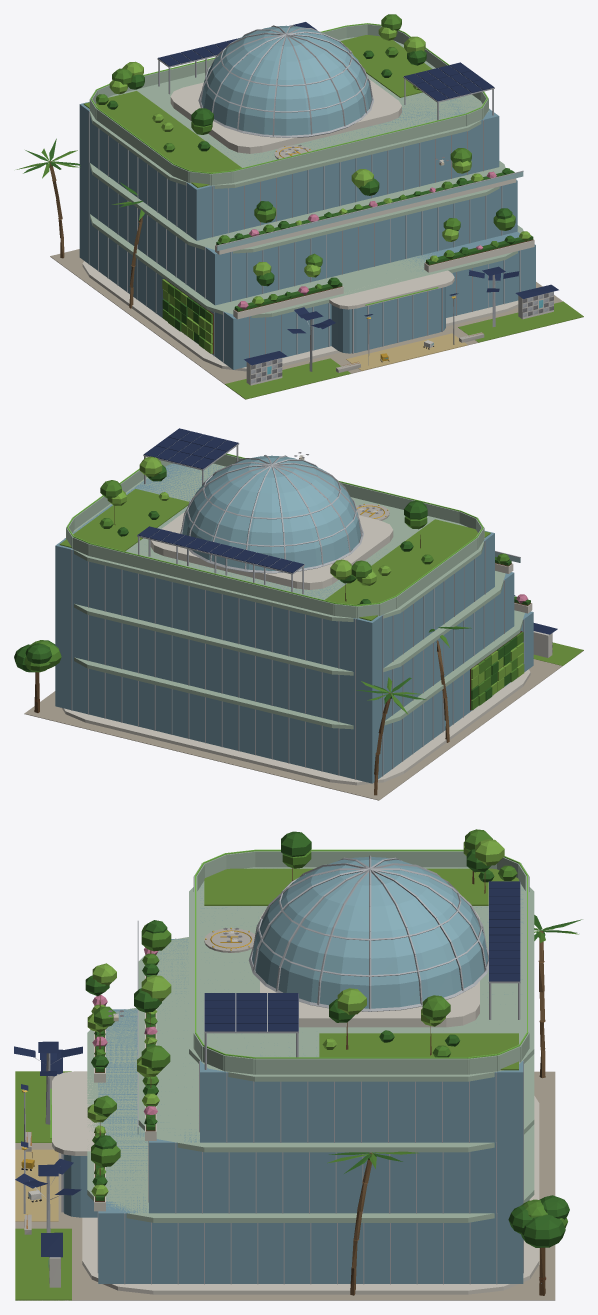
Rendered from shop_5.glb.
3 views of the same model, one above another, from view 1: azimuth 30°, elevation 25°; view 2: azimuth 150°, elevation 25°; view 3: azimuth 270°, elevation 25° (orthographic). The views are drawn at different scales.
Parts seen in each view (by area): view 1: body, windows; view 2: body, windows; view 3: body, windows.
Boxes of the visible parts, x1,y1,x2,y2 form: body: (16, 14, 583, 399); windows: (90, 23, 543, 374); body: (14, 428, 583, 800); windows: (67, 453, 483, 606); body: (14, 829, 582, 1300); windows: (21, 849, 528, 1267).
Bounding box in the file's own units: 37.01 × 20.79 × 33.67.
